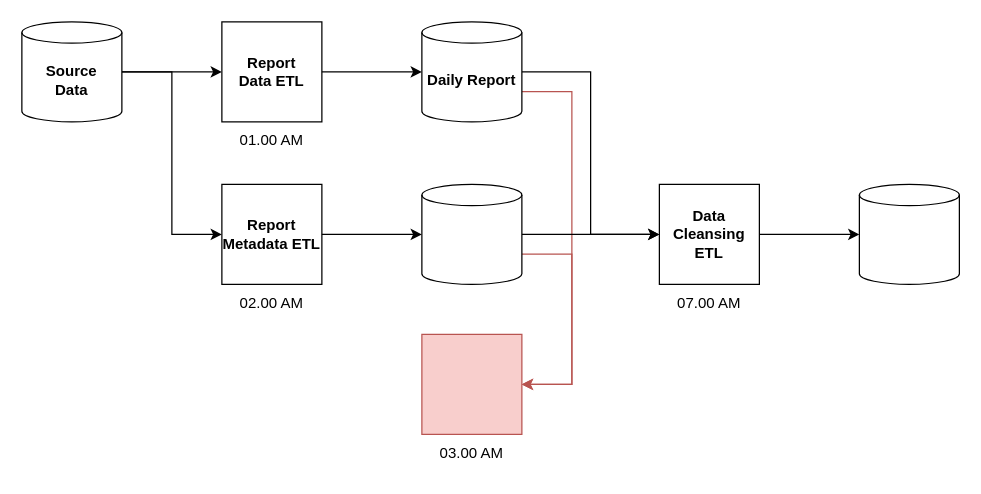
Some shapes in this 981 by 494 pixel diagram are drawn without their labels. The centre of each missing label's shape, as x and y in pixels:
Daily Report Clean: (908,233)
Daily Report Metadata: (471,233)
Data Validation Alert: (471,383)
